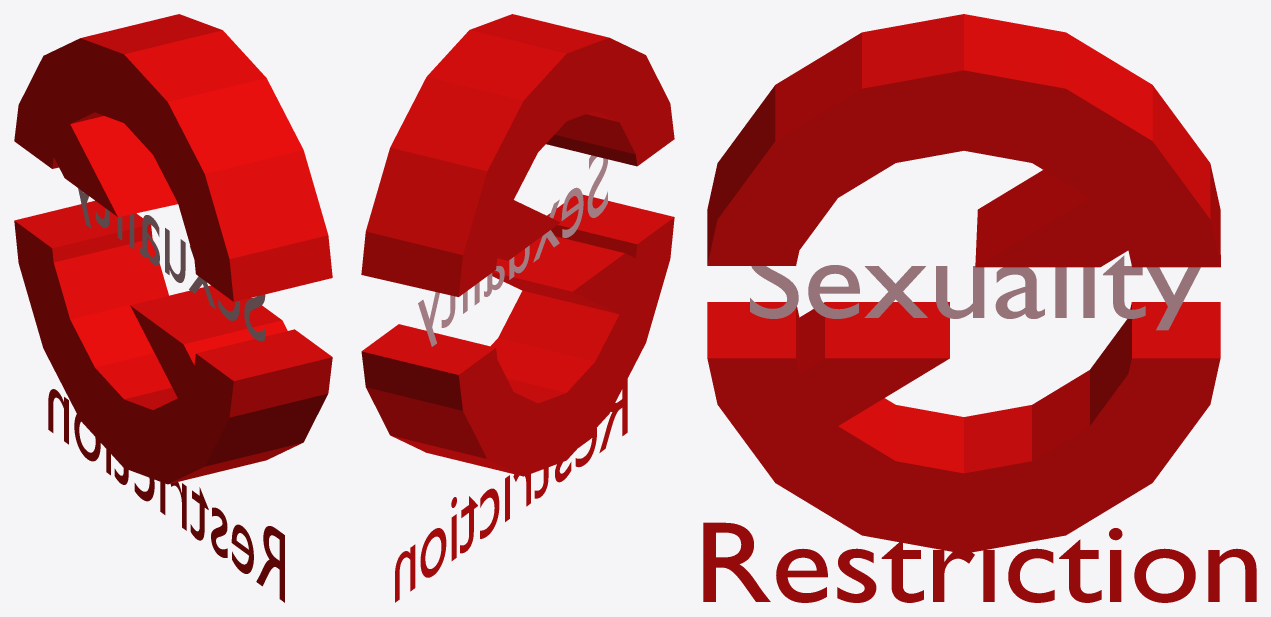
File: SexualityWarning.fbx
The picture shows the model from 3 angles, left to right: view 1: azimuth 30°, elevation 25°; view 2: azimuth 150°, elevation 25°; view 3: azimuth 270°, elevation 25°; orthographic projection. The views are drawn at different scales.
Parts seen in each view (by area): view 1: Circle, Restriction, Sexuality; view 2: Circle, Restriction, Sexuality; view 3: Circle, Restriction, Sexuality.
Boxes of the visible parts, x1=… form: Circle: x1=14, y1=14, x2=332, y2=484; Restriction: x1=48, y1=389, x2=284, y2=602; Sexuality: x1=78, y1=188, x2=265, y2=341; Circle: x1=361, y1=14, x2=674, y2=476; Restriction: x1=395, y1=379, x2=627, y2=602; Sexuality: x1=418, y1=155, x2=608, y2=346; Circle: x1=707, y1=14, x2=1220, y2=553; Restriction: x1=703, y1=522, x2=1256, y2=602; Sexuality: x1=750, y1=255, x2=1200, y2=330.
Bounding box in the file's own units: 62.5 × 290 × 259.
